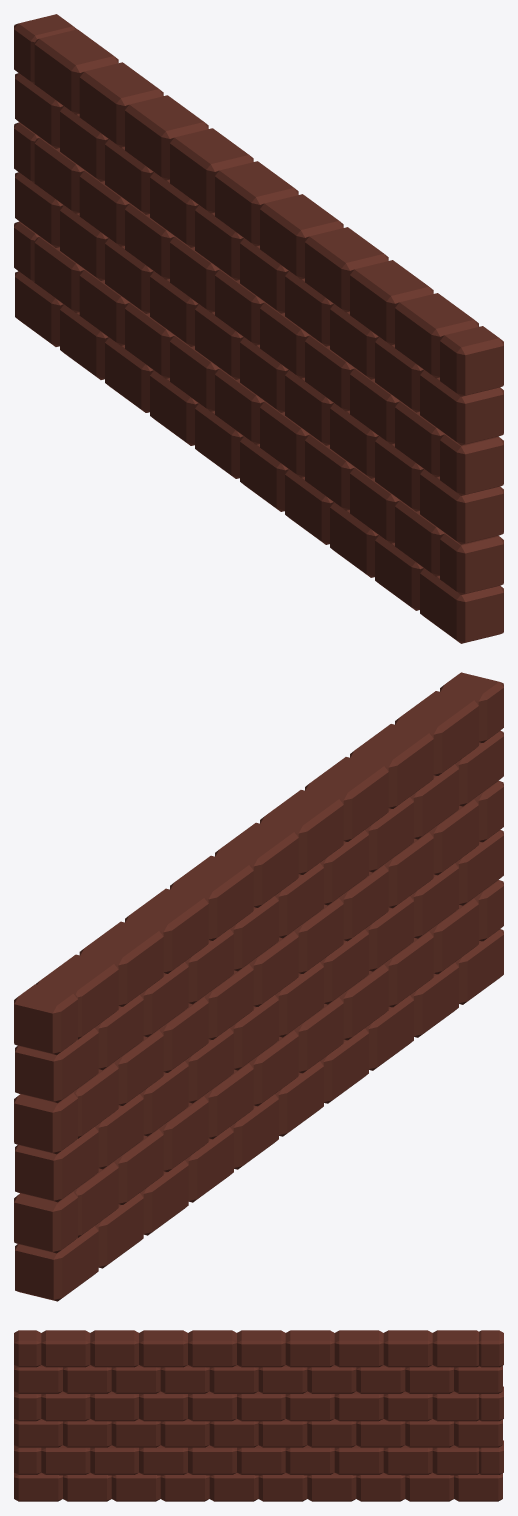
The model's file is Wall.fbx.
3 views of the same model, one above another, from view 1: azimuth 30°, elevation 25°; view 2: azimuth 150°, elevation 25°; view 3: azimuth 270°, elevation 25° (orthographic). The views are drawn at different scales.
Visible parts, largest first — view 1: Wall; view 2: Wall; view 3: Wall.
Boxes of the visible parts, bbox=[...] form: Wall: bbox=[14, 14, 503, 643]; Wall: bbox=[14, 672, 503, 1301]; Wall: bbox=[14, 1330, 503, 1501].
Bounding box in the file's own units: 56.85 × 340 × 938.
